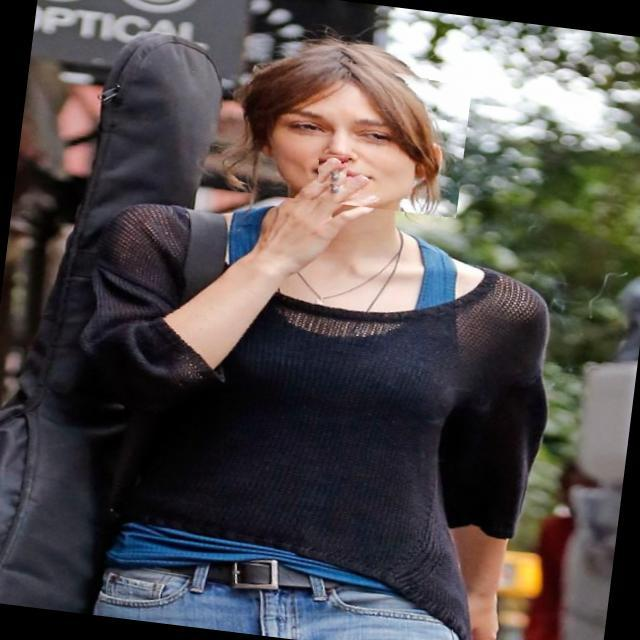cigarette: (315, 152, 348, 186)
